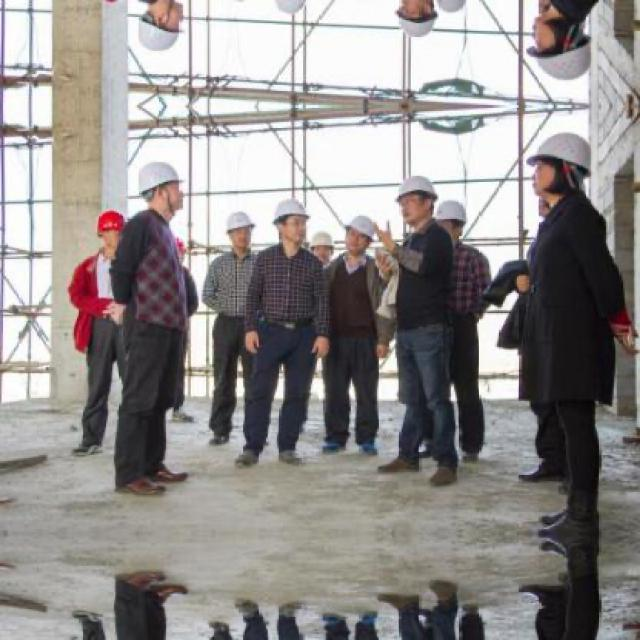helmet: (526, 1, 591, 85), (526, 128, 591, 211), (134, 152, 186, 218), (132, 0, 186, 62), (395, 179, 440, 227), (432, 198, 470, 248), (271, 200, 311, 247), (341, 212, 377, 260), (220, 205, 255, 253), (94, 210, 128, 258), (396, 0, 442, 35), (305, 230, 337, 268), (431, 0, 469, 17), (269, 0, 311, 14), (220, 0, 257, 9)
